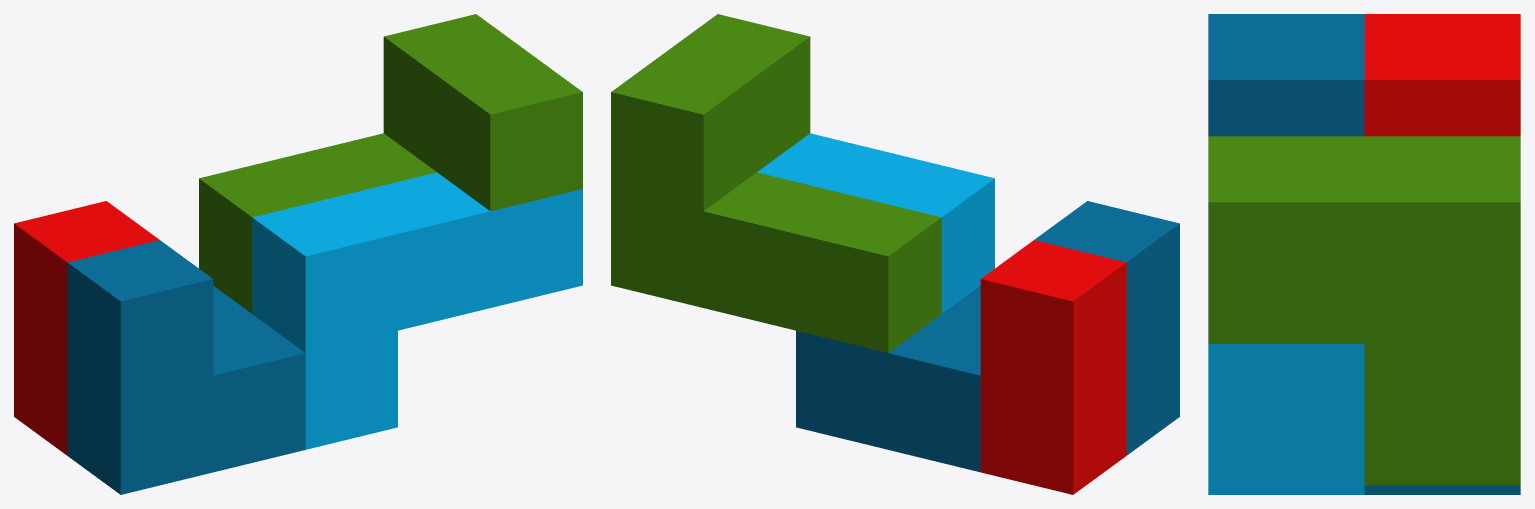
The picture shows the model from 3 angles, left to right: view 1: azimuth 30°, elevation 25°; view 2: azimuth 150°, elevation 25°; view 3: azimuth 270°, elevation 25°; orthographic projection. The views are drawn at different scales.
Parts seen in each view (by area): view 1: mergedBlocks(Clone); view 2: mergedBlocks(Clone); view 3: mergedBlocks(Clone).
Boxes of the visible parts, left/top/right/bottom form: mergedBlocks(Clone): left=14, top=14, right=582, bottom=494; mergedBlocks(Clone): left=611, top=14, right=1179, bottom=494; mergedBlocks(Clone): left=1208, top=14, right=1520, bottom=494.
Bounding box in the file's own units: 5 × 3 × 2.
4 materials, 4 textured.
